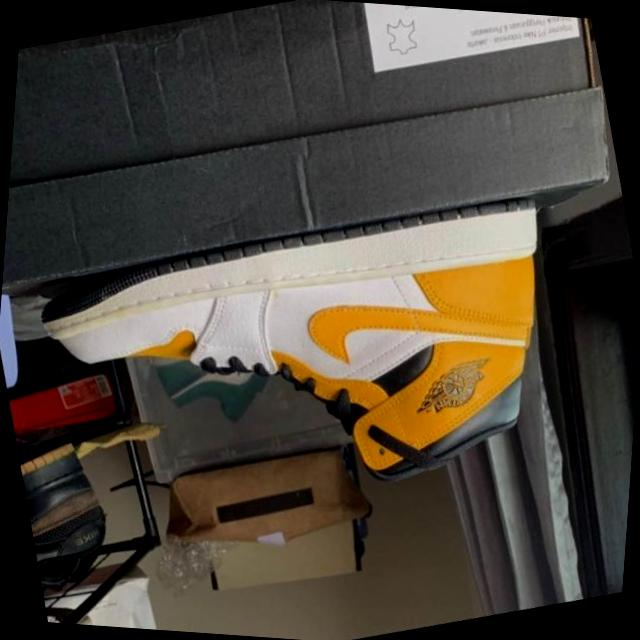nike_original_jordan: (14, 156, 599, 572)
